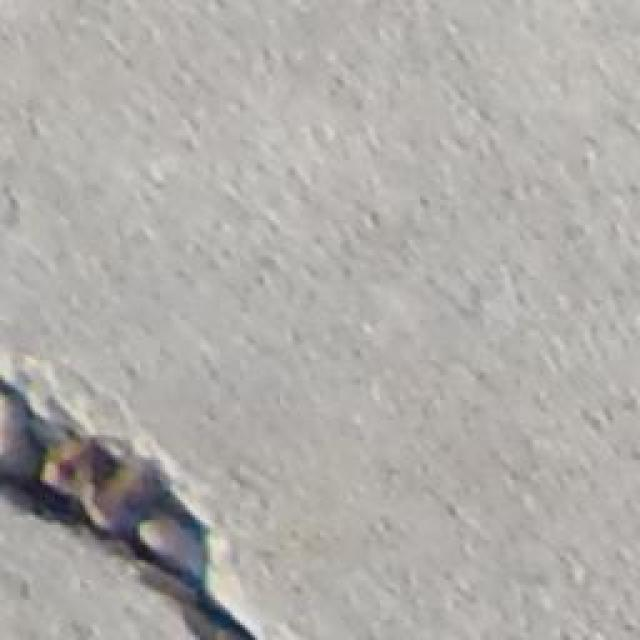concrete-crack: (0, 364, 270, 640)
